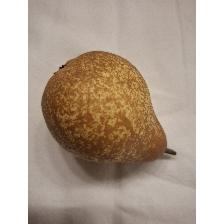Birne: (38, 48, 178, 168)
